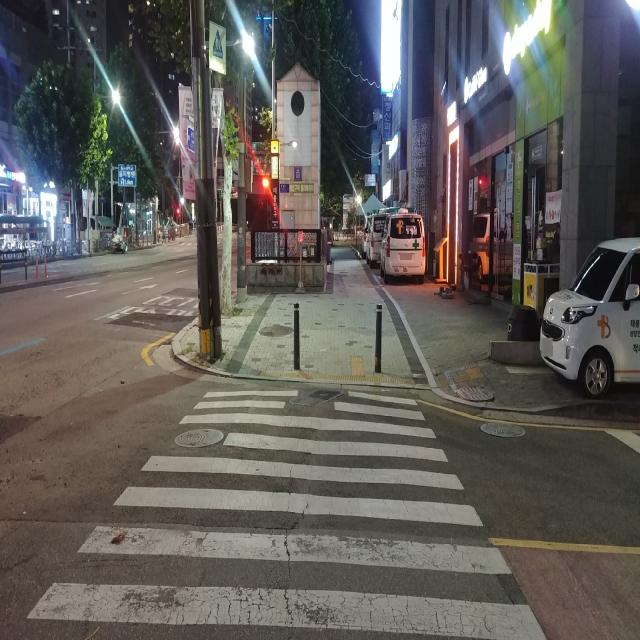횡단보도: (26, 389, 549, 640)
